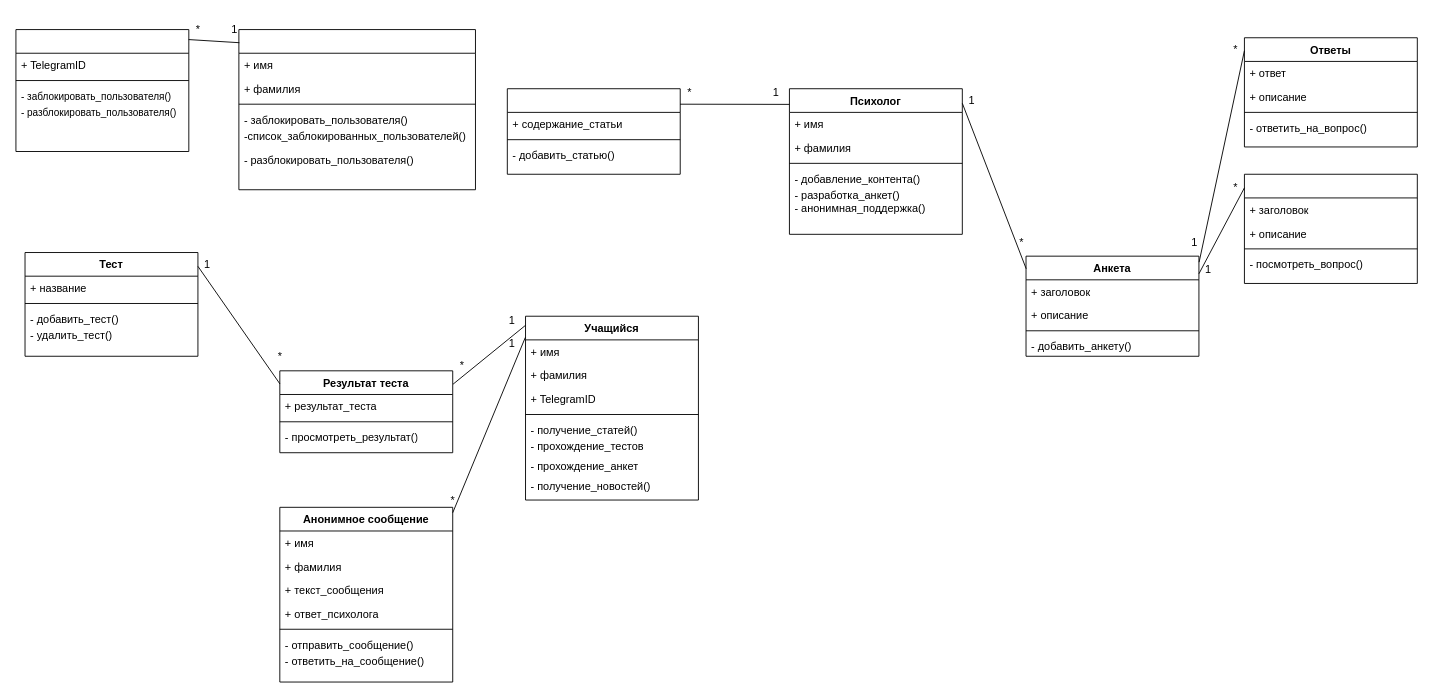
Image size: 1433x700. Some labels were removed from this diagram. Here are the shapes that lost their labels. From the top down, the box of each, then its label:
(15, 29, 189, 152): Заблокированный пользователь
(238, 29, 475, 190): Администратор
(506, 88, 680, 174): Статья
(1244, 173, 1417, 283): Вопросы
